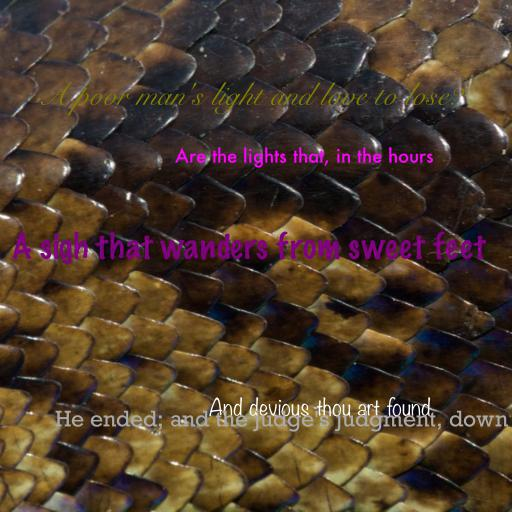Futura: (174, 147, 434, 168)
Marker Felt: (12, 231, 486, 265)
Noteworthy: (209, 397, 431, 417)
Rockwell: (54, 410, 508, 432)
Snell Roundhand: (37, 82, 463, 116)
